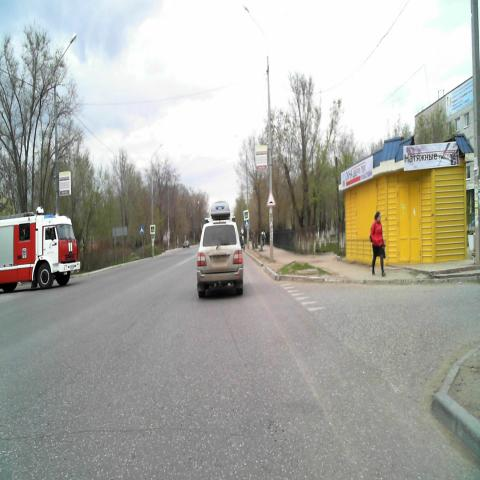1_17: (266, 192, 276, 206)
